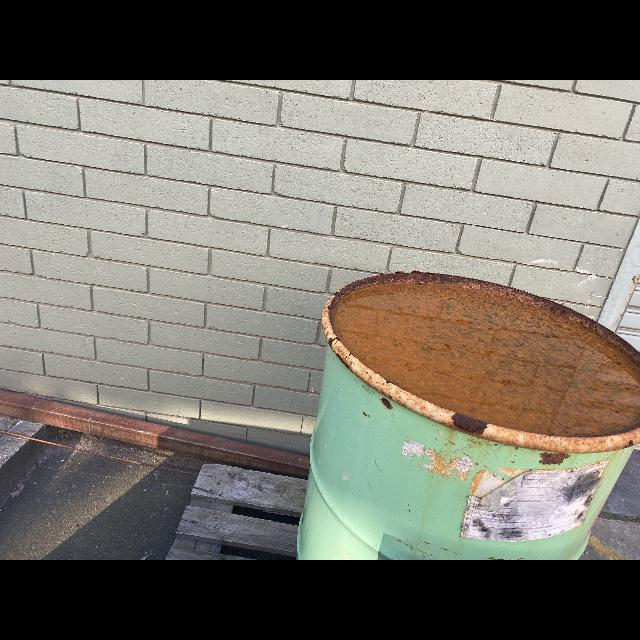Ferrous Metal: (298, 273, 640, 559), (0, 390, 310, 477), (0, 430, 198, 476), (597, 218, 640, 355)
